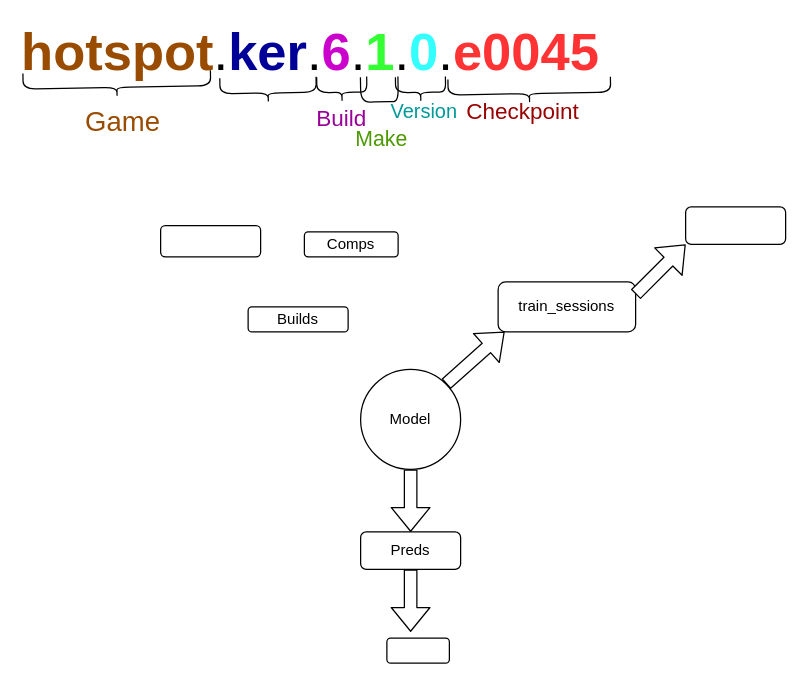
Image size: 808x685. Some labels were removed from this diagram. The shapes that lost their labels are listed below. From the top down, each one's centre as x and y in pixels, then its label:
At point (267, 89): "API".
At point (210, 240): "Layers".
At point (735, 225): "train_logs".
At point (417, 650): "Tickets".
